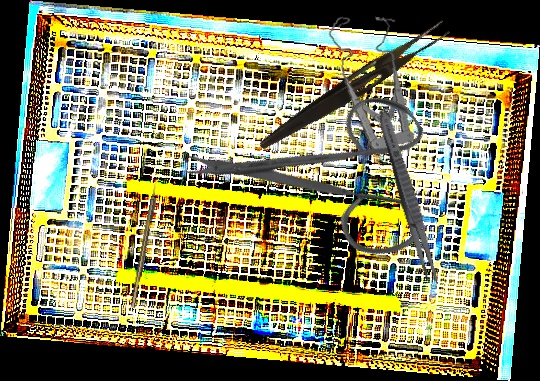Dressing Forceps: (256, 13, 452, 160), (374, 111, 444, 288)
Hook Surgical: (129, 178, 161, 309)
Iris Scissors: (175, 33, 475, 329)
Speculum: (310, 10, 432, 189)
